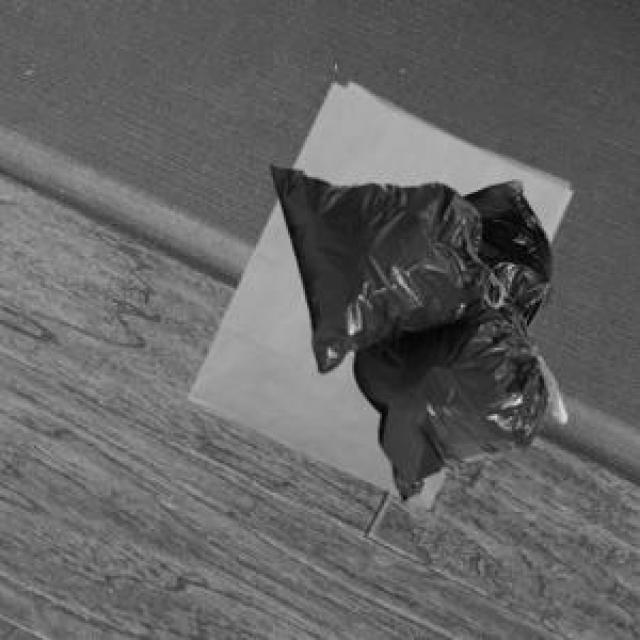miscellaneous trash: (268, 160, 563, 497), (459, 177, 546, 326)
paper: (186, 79, 568, 504)
